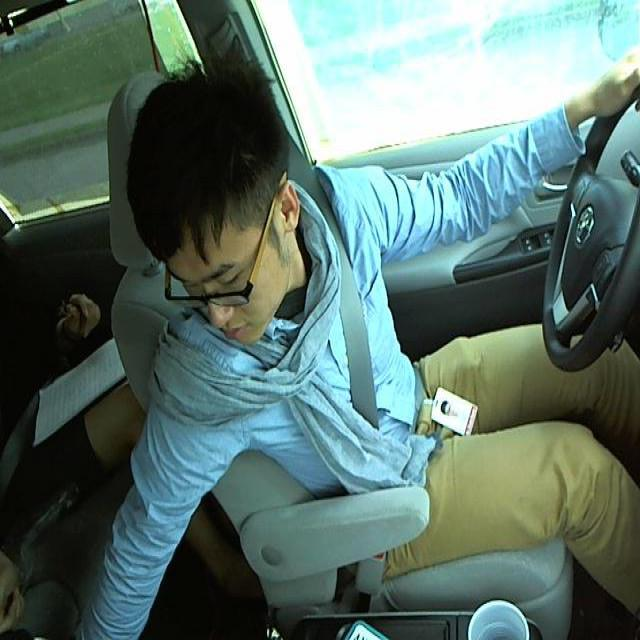seatbelt: (316, 231, 387, 448)
